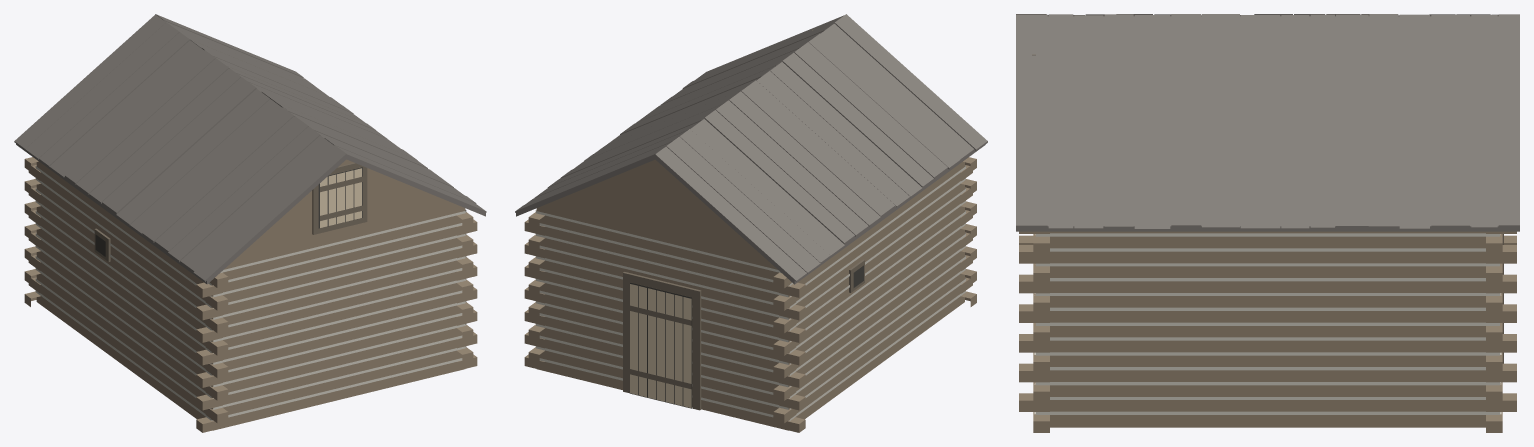
The model's file is recon_1835_blk_randolph_clinton_a1_06__inferred_1835.glb.
3 renders of one model, left to right at view 1: azimuth 30°, elevation 25°; view 2: azimuth 150°, elevation 25°; view 3: azimuth 270°, elevation 25°, orthographic. The views are drawn at different scales.
Visible parts, largest first — view 1: recon_1835_blk_randolph_clinton_a1_06__inferred_1835; view 2: recon_1835_blk_randolph_clinton_a1_06__inferred_1835; view 3: recon_1835_blk_randolph_clinton_a1_06__inferred_1835.
Boxes of the visible parts, x1,y1,x2,y2 form: recon_1835_blk_randolph_clinton_a1_06__inferred_1835: (14, 14, 486, 432); recon_1835_blk_randolph_clinton_a1_06__inferred_1835: (515, 14, 987, 432); recon_1835_blk_randolph_clinton_a1_06__inferred_1835: (1016, 14, 1519, 432).
Size of the model in its own units: 6.14 by 5.21 by 7.16.
